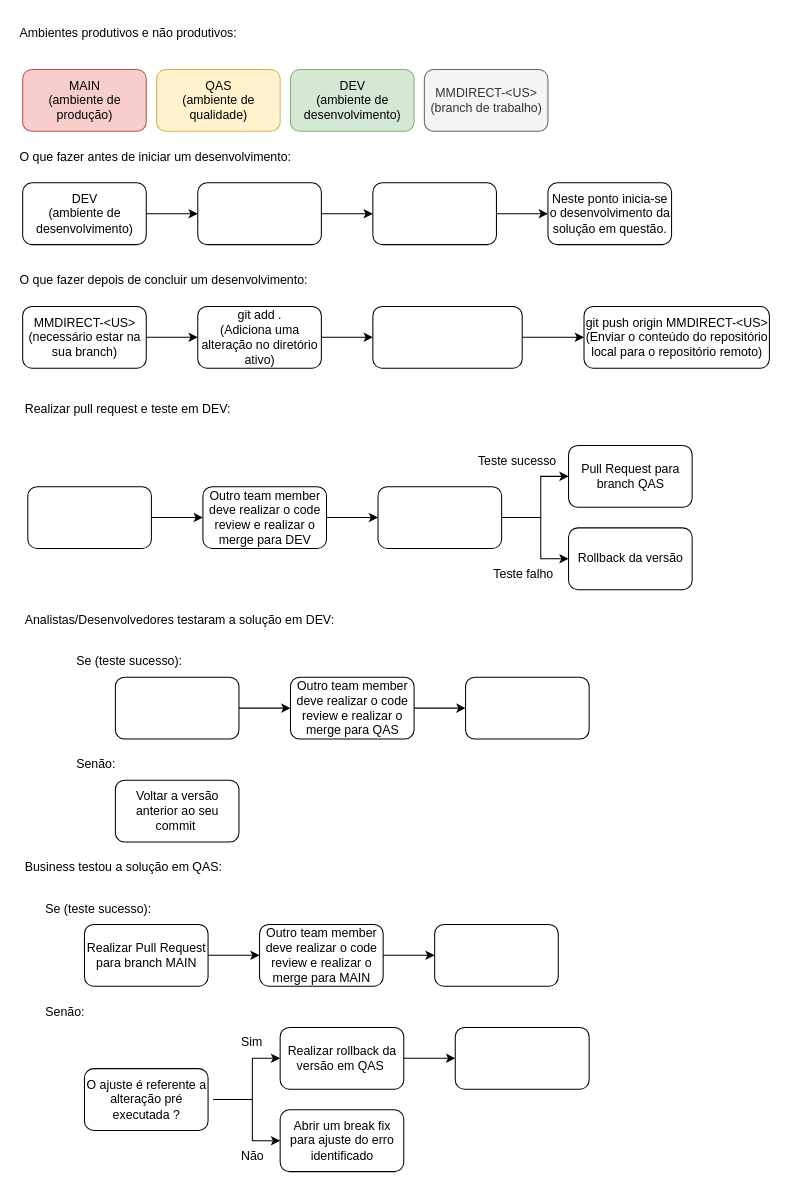
The diagram is 788 pixels wide and 1190 high, and some of its shapes have lost their labels. The box of each missing label's shape, as (x1, y1, x2, y2) in pixels:
Business deve testar a solução em QAS: (465, 676, 589, 739)
git checkout -b MMDIRECT-<US> (Cria uma nova branch): (372, 182, 496, 245)
git commit -m "descrição US" (captura o estado do projeto naquele momento): (372, 305, 522, 368)
git pull origin dev (Atualiza a versão de dev no seu repositório local): (197, 182, 321, 245)
O pipeline realiza o build e deploy em PROD BTP: (434, 923, 558, 986)
Realizar ajuste na sua branch e seguir fluxo conforme explicado anteriormente: (454, 1026, 589, 1089)
Realizar Pull Request para branch QAS: (114, 676, 239, 739)
Realizar um Pull Request da sua branch para DEV: (27, 486, 151, 548)
Testar a solução em DEV: (377, 486, 502, 548)
